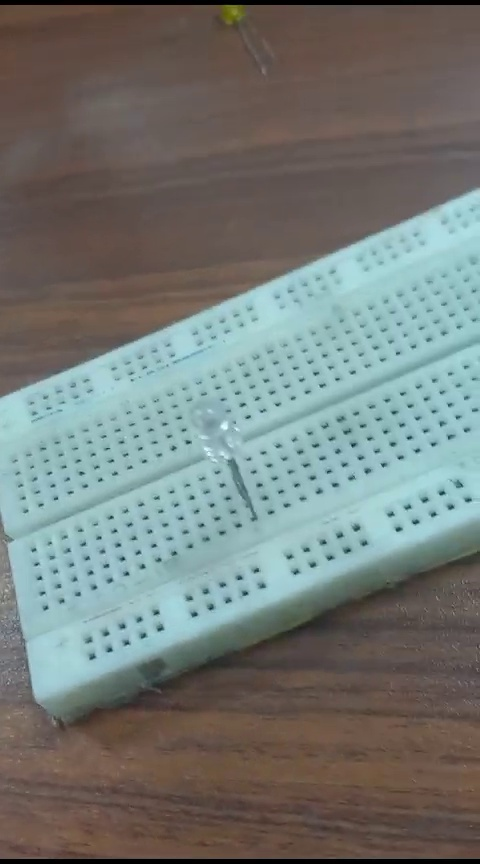LED: (182, 396, 251, 523)
